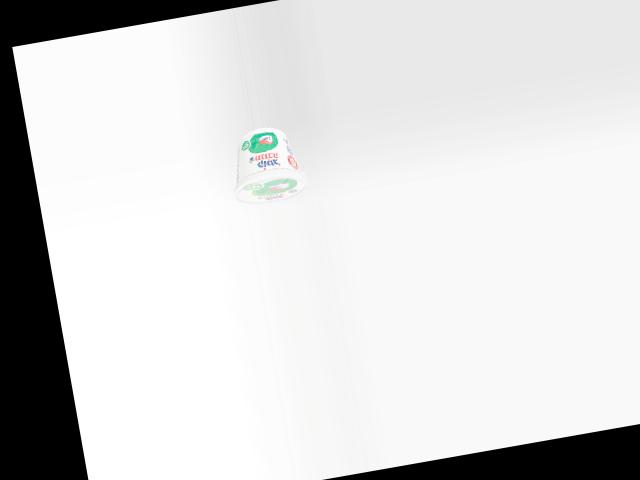cotage: (222, 121, 312, 209)
